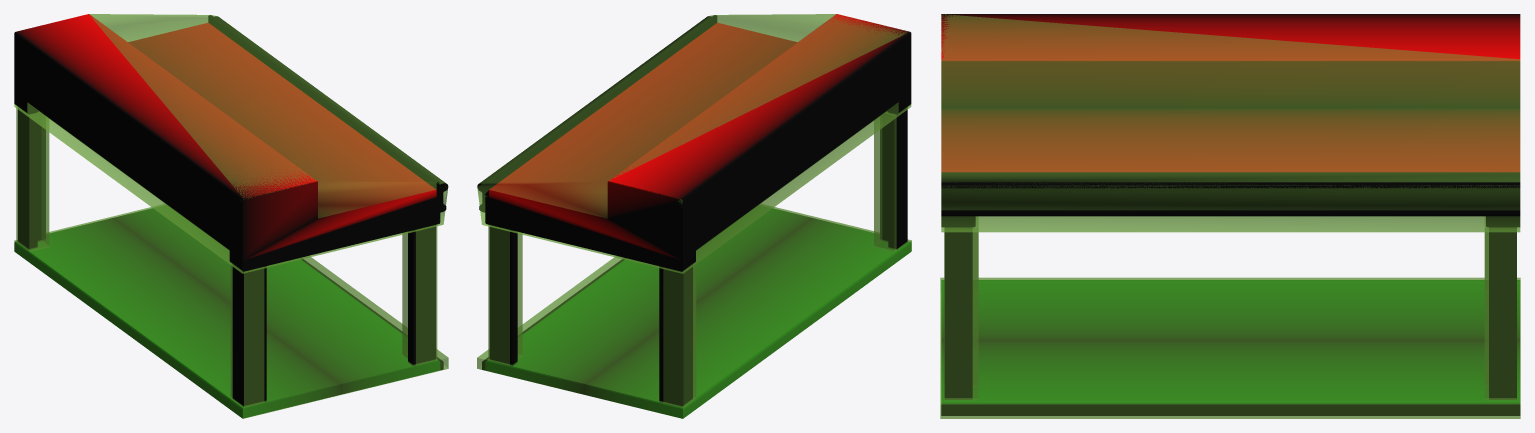
Rendered from M_md_Stall2_2m_02.fbx.
3 views of the same model, side by side, from view 1: azimuth 30°, elevation 25°; view 2: azimuth 150°, elevation 25°; view 3: azimuth 270°, elevation 25° (orthographic). The views are drawn at different scales.
Visible parts, largest first — view 1: M_md_Stall2_2m_02_LOD0, M_md_Stall2_2m_02_col_02, M_md_Stall2_2m_02_col_06, M_md_Stall2_2m_02_col_05, M_md_Stall2_2m_02_col_01, M_md_Stall2_2m_02_col_03; view 2: M_md_Stall2_2m_02_LOD0, M_md_Stall2_2m_02_col_02, M_md_Stall2_2m_02_col_06, M_md_Stall2_2m_02_col_05, M_md_Stall2_2m_02_col_04, M_md_Stall2_2m_02_col_03; view 3: M_md_Stall2_2m_02_LOD0, M_md_Stall2_2m_02_col_06, M_md_Stall2_2m_02_col_02, M_md_Stall2_2m_02_col_01, M_md_Stall2_2m_02_col_04.
Part boxes in pixels (x1,y1,x2,y2): M_md_Stall2_2m_02_LOD0: (14,14,448,418); M_md_Stall2_2m_02_col_02: (14,204,448,418); M_md_Stall2_2m_02_col_06: (14,14,448,273); M_md_Stall2_2m_02_col_05: (16,106,49,251); M_md_Stall2_2m_02_col_01: (402,225,437,364); M_md_Stall2_2m_02_col_03: (230,263,264,407); M_md_Stall2_2m_02_LOD0: (477,14,911,418); M_md_Stall2_2m_02_col_02: (477,204,911,418); M_md_Stall2_2m_02_col_06: (477,14,911,273); M_md_Stall2_2m_02_col_05: (663,262,696,407); M_md_Stall2_2m_02_col_04: (488,225,522,365); M_md_Stall2_2m_02_col_03: (874,112,896,251); M_md_Stall2_2m_02_LOD0: (941,14,1520,415); M_md_Stall2_2m_02_col_06: (941,14,1520,232); M_md_Stall2_2m_02_col_02: (940,277,1520,418); M_md_Stall2_2m_02_col_01: (944,216,978,400); M_md_Stall2_2m_02_col_04: (1484,216,1516,400).
Size of what is drawn, in the model's own units: 104 by 106 by 200.
